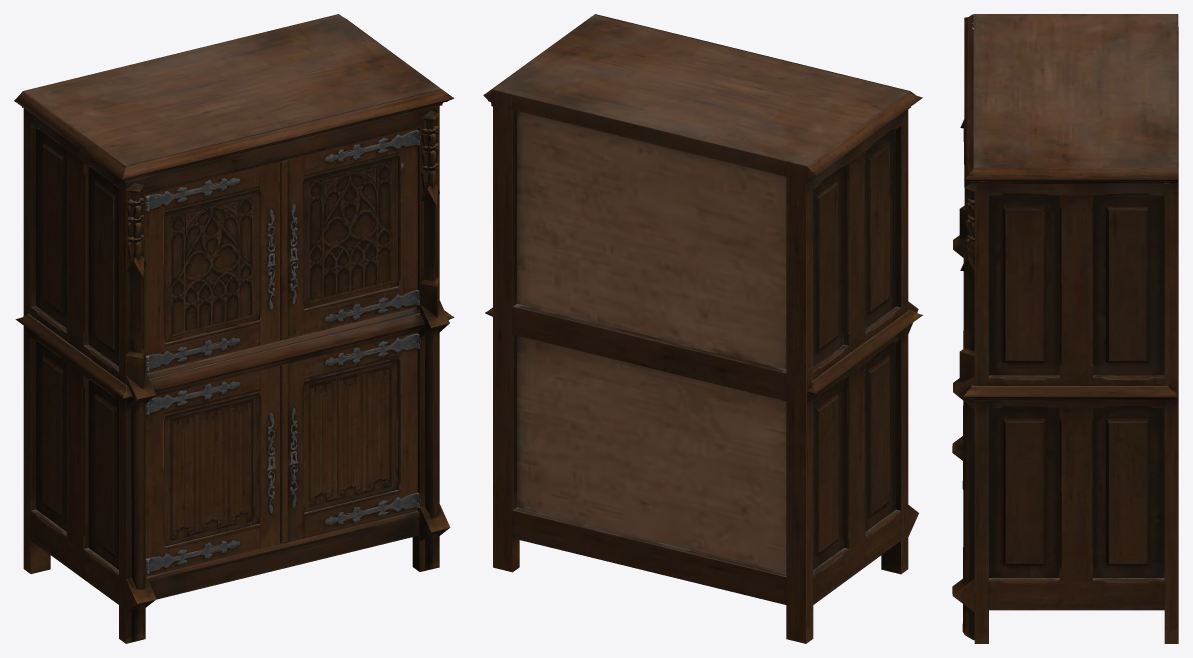
File: carved-cabinet.glb
3 views of the same model, side by side, from view 1: azimuth 30°, elevation 25°; view 2: azimuth 150°, elevation 25°; view 3: azimuth 270°, elevation 25° (orthographic).
Visible parts, largest first — view 1: Body, DoorUpperR, DoorLowerR, DoorUpperL, DoorLowerL; view 2: Body; view 3: Body.
Part boxes in pixels (x1,y1,x2,y2): Body: [14, 14, 454, 643]; DoorUpperR: [280, 128, 420, 340]; DoorLowerR: [280, 332, 420, 543]; DoorUpperL: [145, 162, 280, 373]; DoorLowerL: [145, 366, 280, 576]; Body: [483, 14, 922, 643]; Body: [952, 14, 1178, 643].
Size of the model in its own units: 1.72 by 2.36 by 1.02.
Materials: 1 (1 with a texture image).
